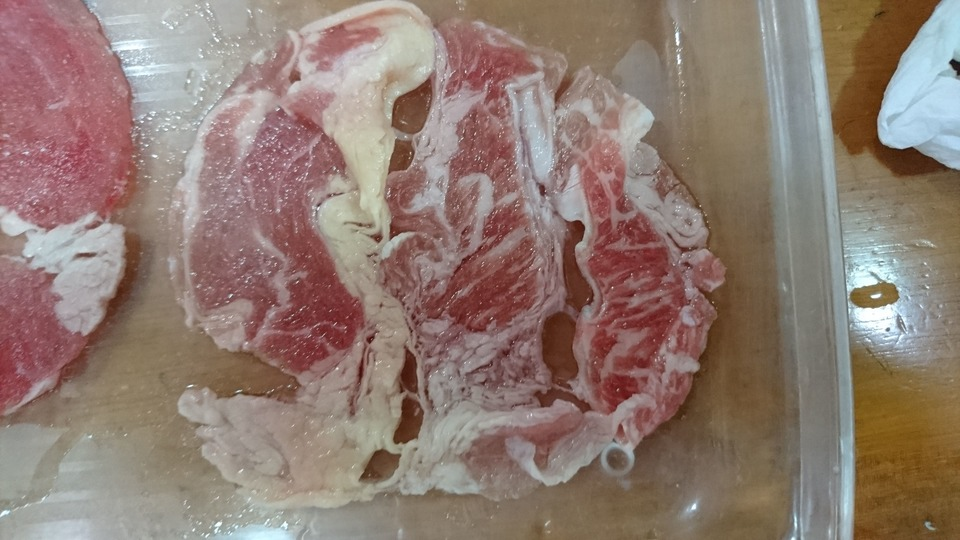restructured meat: (170, 19, 742, 504), (3, 1, 124, 427)
